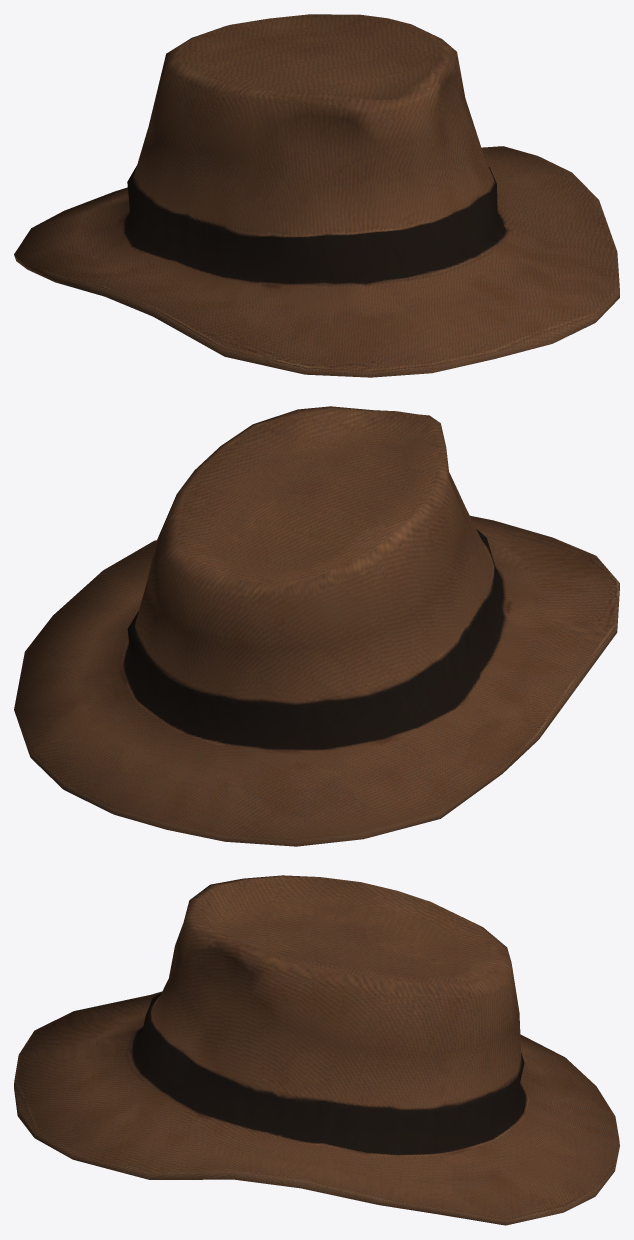
File: Hat 6.FBX
The picture shows the model from 3 angles, top to bottom: view 1: azimuth 30°, elevation 25°; view 2: azimuth 150°, elevation 25°; view 3: azimuth 270°, elevation 25°; orthographic projection. The views are drawn at different scales.
Visible parts, largest first — view 1: Hat 6; view 2: Hat 6; view 3: Hat 6.
Boxes of the visible parts, <box> form: Hat 6: <box>14,14,619,377</box>; Hat 6: <box>14,406,619,846</box>; Hat 6: <box>14,875,619,1225</box>.
Size of the model in its own units: 29.3 by 14.88 by 34.23.
1 material, 1 textured.
